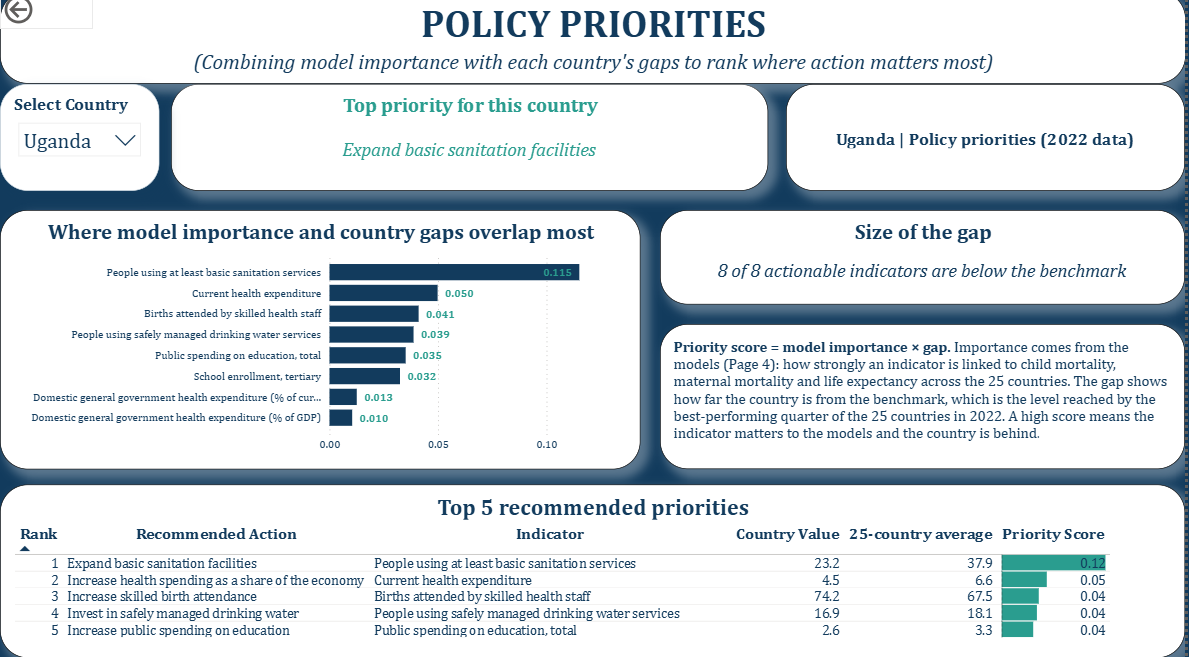

Layout of this report page (visuals, bound fields, positions):
{"tool":"powerbi","page":{"name":"Policy Priorities","canvas":[1280,720],"ordinal":5},"visuals":[{"type":"cardVisual","title":"Size of the gap","fields":{"Data":["country_policy_priorities.Gaps Text"]},"box":[712.4,236.2,566.9,102],"z":0},{"type":"cardVisual","title":"Top priority for this country","fields":{"Data":["country_policy_priorities.Top Priority"]},"box":[185.2,100.2,644.4,115.3],"z":1000},{"type":"tableEx","title":"Top 5 recommended priorities","fields":{"Values":["Sum(country_policy_priorities.priority_rank)","country_policy_priorities.recommended_action","country_policy_priorities.short_name","Sum(country_policy_priorities.country_value)","Sum(country_policy_priorities.group_average)","Sum(country_policy_priorities.priority_score)"]},"box":[0,532.9,1279.4,187.1],"z":2000},{"type":"textbox","title":"POLICY PRIORITIES","box":[0,0,1280,100],"z":3000},{"type":"cardVisual","title":"Importance that policy can act on","fields":{"Data":["country_policy_priorities.Priority Title"]},"box":[848.5,100.2,430.9,115.3],"z":4000},{"type":"clusteredBarChart","title":"Where model importance and country gaps overlap most","fields":{"Category":["country_policy_priorities.short_name"],"Y":["Sum(country_policy_priorities.priority_score)"]},"box":[0,236.2,691.7,279.7],"z":5000},{"type":"actionButton","box":[0,0,100,40],"z":6000},{"type":"slicer","title":"Select Country","fields":{"Values":["country_policy_priorities.country_name"]},"box":[0,100.2,172,115.3],"z":7000},{"type":"textbox","box":[712.4,359.1,566.9,156.9],"z":8000}]}

Visuals, with their boxes in screenshot pixels (x1, y1, x2, y2), scaled from the page's 1280x720 canvas onto the 1189x657 screenshot:
"Size of the gap" cardVisual: [x1=662, y1=216, x2=1188, y2=309]
"Top priority for this country" cardVisual: [x1=172, y1=91, x2=771, y2=197]
"Top 5 recommended priorities" tableEx: [x1=0, y1=486, x2=1188, y2=656]
"POLICY PRIORITIES" textbox: [x1=0, y1=0, x2=1188, y2=91]
"Importance that policy can act on" cardVisual: [x1=788, y1=91, x2=1188, y2=197]
"Where model importance and country gaps overlap most" clusteredBarChart: [x1=0, y1=216, x2=643, y2=471]
actionButton: [x1=0, y1=0, x2=93, y2=36]
"Select Country" slicer: [x1=0, y1=91, x2=160, y2=197]
textbox: [x1=662, y1=328, x2=1188, y2=471]
